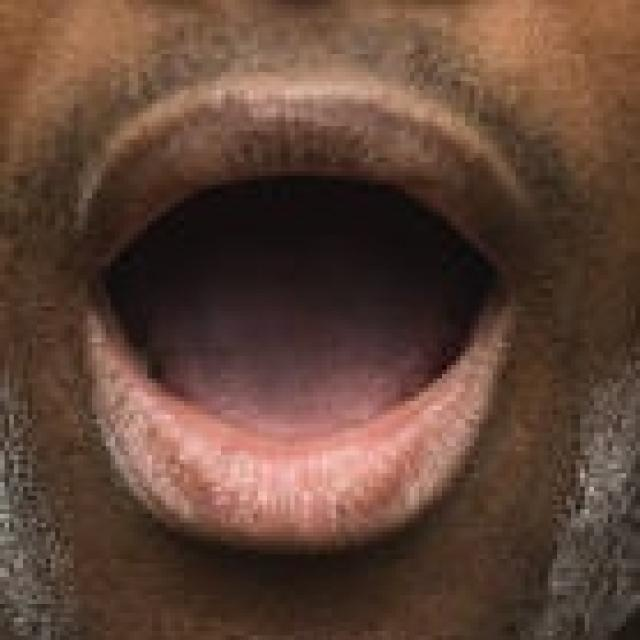open-mouth: (59, 62, 544, 554)
